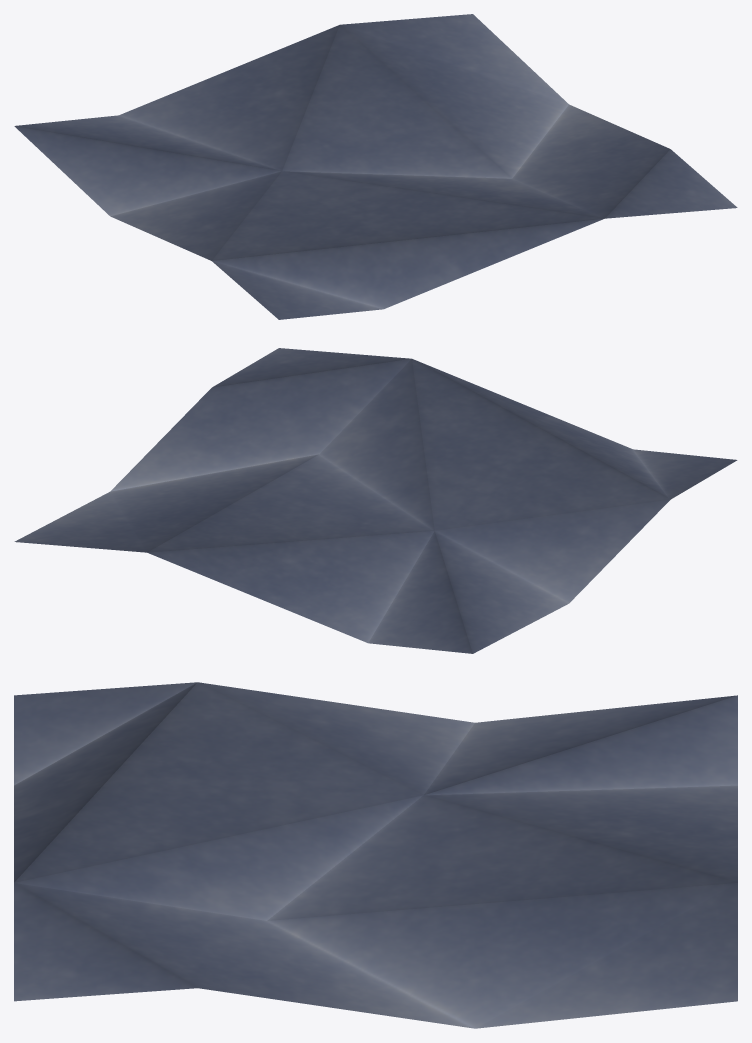
The model's file is SM_Ceiling_Face_A.fbx.
3 views of the same model, one above another, from view 1: azimuth 30°, elevation 25°; view 2: azimuth 150°, elevation 25°; view 3: azimuth 270°, elevation 25° (orthographic). The views are drawn at different scales.
Visible parts, largest first — view 1: pCube207; view 2: pCube207; view 3: pCube207.
Boxes of the visible parts, <box> form: pCube207: <box>14,14,737,319</box>; pCube207: <box>14,348,737,653</box>; pCube207: <box>14,682,737,1028</box>.
Bounding box in the file's own units: 1 × 0.087 × 1.
